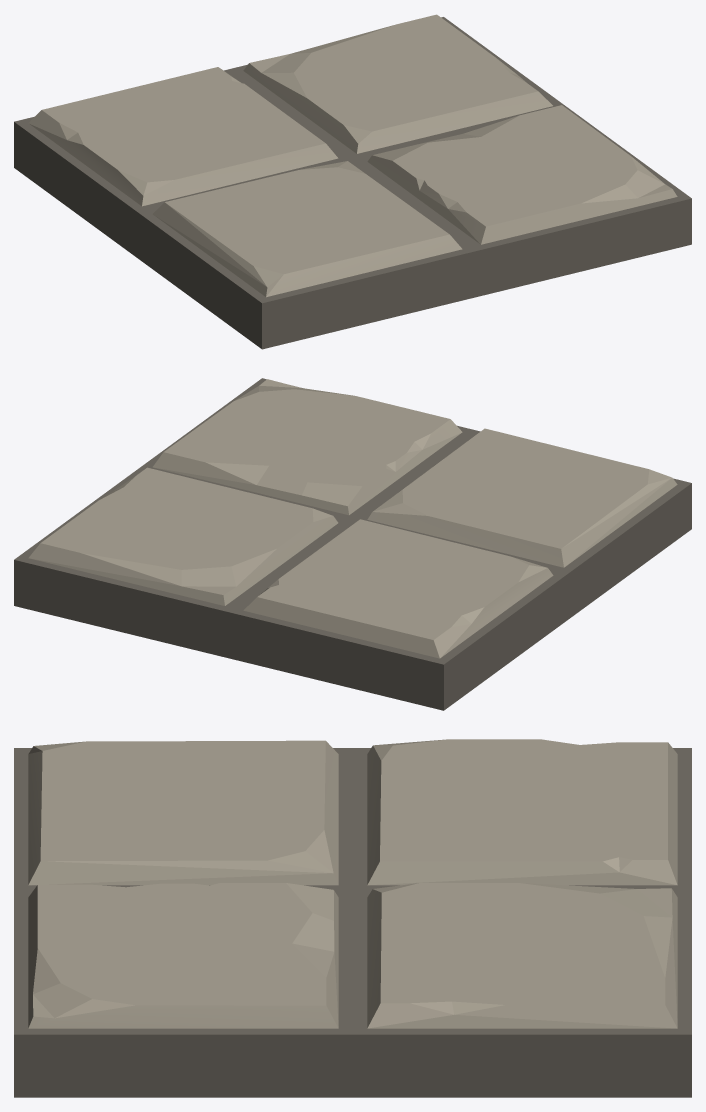
The model's file is SM_Env_PathBlock_01.obj.
The picture shows the model from 3 angles, top to bottom: view 1: azimuth 30°, elevation 25°; view 2: azimuth 150°, elevation 25°; view 3: azimuth 270°, elevation 25°; orthographic projection. The views are drawn at different scales.
Parts seen in each view (by area): view 1: SM_Env_PathBlock_01_0; view 2: SM_Env_PathBlock_01_0; view 3: SM_Env_PathBlock_01_0.
Boxes of the visible parts, bbox=[...] form: SM_Env_PathBlock_01_0: bbox=[14, 14, 691, 349]; SM_Env_PathBlock_01_0: bbox=[14, 378, 691, 710]; SM_Env_PathBlock_01_0: bbox=[14, 739, 691, 1097].
Bounding box in the file's own units: 1.5 × 0.1991 × 1.5.
Materials: 1 (1 with a texture image).
